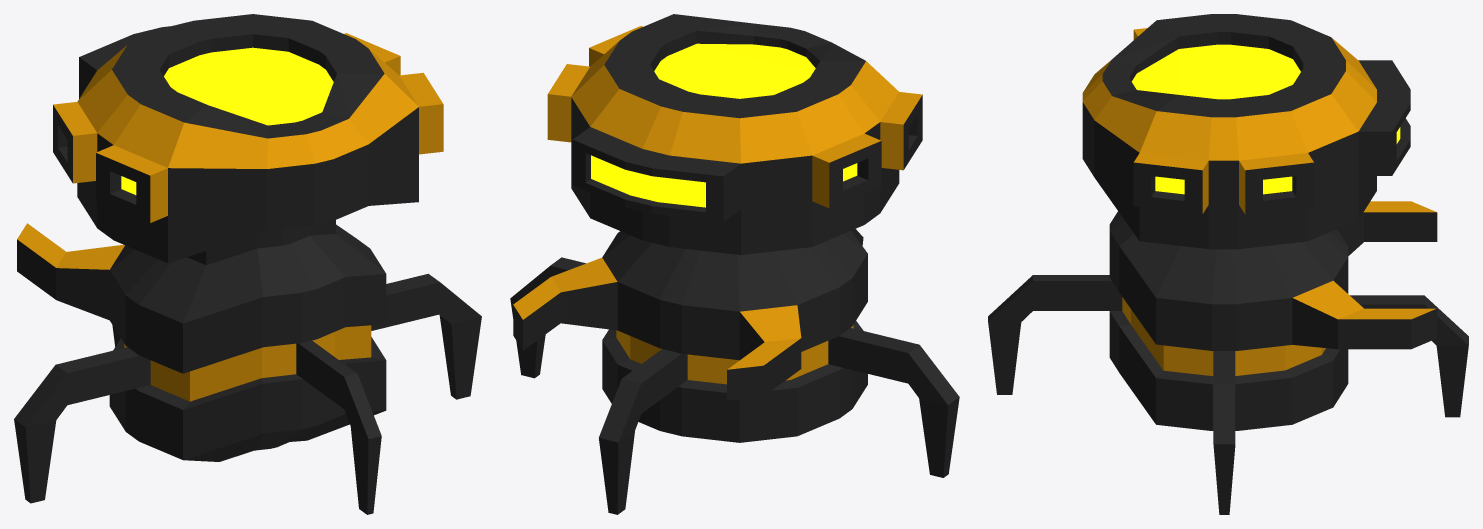
Rendered from Sentinel.fbx.
The picture shows the model from 3 angles, left to right: view 1: azimuth 30°, elevation 25°; view 2: azimuth 150°, elevation 25°; view 3: azimuth 270°, elevation 25°; orthographic projection. The views are drawn at different scales.
Visible parts, largest first — view 1: Sentinel; view 2: Sentinel; view 3: Sentinel.
Part boxes in pixels (<box>): Sentinel: <box>14,14,481,514</box>; Sentinel: <box>510,14,959,514</box>; Sentinel: <box>988,14,1468,514</box>.
Bounding box in the file's own units: 1.46 × 1.15 × 1.43.
